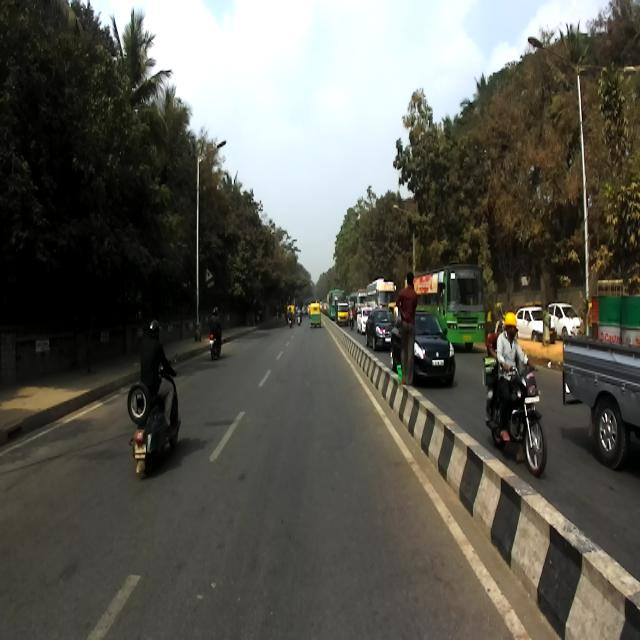motorcycle ahead at: (130, 380, 182, 480), (508, 362, 547, 468), (208, 303, 224, 363)
